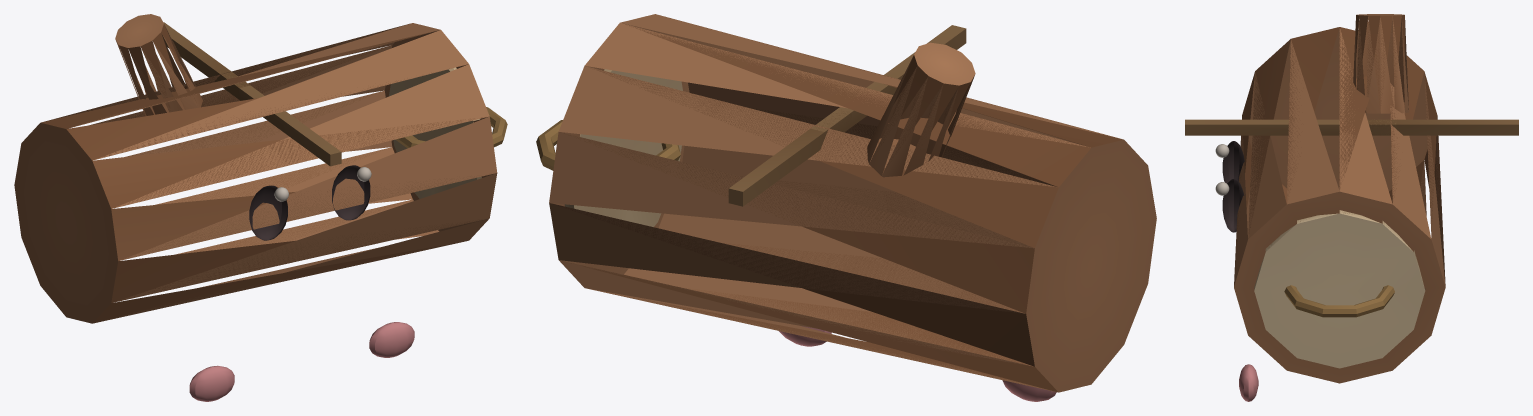
The model's file is p13818edb.glb.
3 views of the same model, side by side, from view 1: azimuth 30°, elevation 25°; view 2: azimuth 150°, elevation 25°; view 3: azimuth 270°, elevation 25° (orthographic). The views are drawn at different scales.
Parts seen in each view (by area): view 1: pet_p13818edb; view 2: pet_p13818edb; view 3: pet_p13818edb.
Boxes of the visible parts, x1=… form: pet_p13818edb: x1=14, y1=14, x2=507, y2=401; pet_p13818edb: x1=536, y1=14, x2=1156, y2=401; pet_p13818edb: x1=1185, y1=14, x2=1518, y2=401.
Bounding box in the file's own units: 0.5767 × 0.4184 × 0.41.
